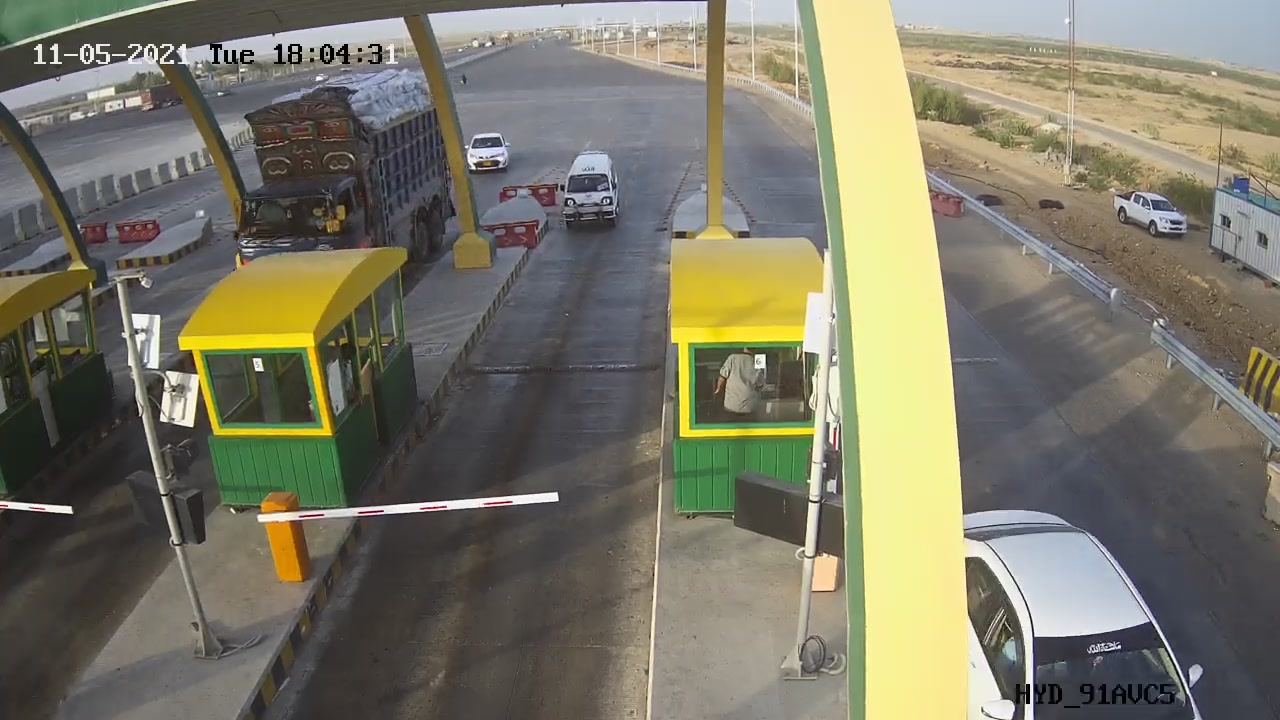F1: (539, 139, 637, 238)
